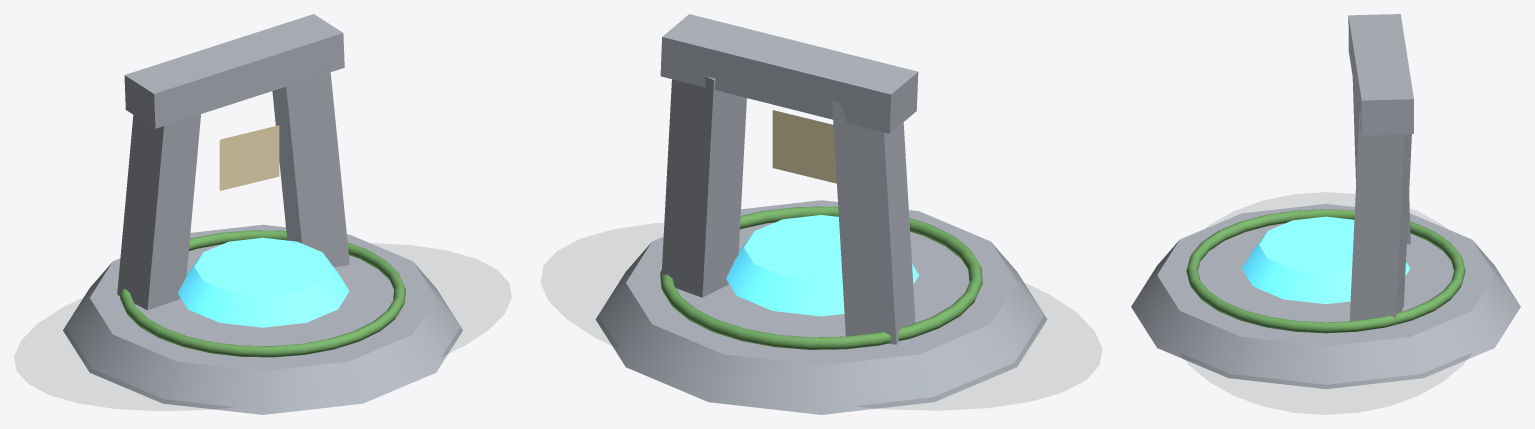
File: neutral_sanctuary.glb
3 renders of one model, left to right at view 1: azimuth 30°, elevation 25°; view 2: azimuth 150°, elevation 25°; view 3: azimuth 270°, elevation 25°, orthographic. The views are drawn at different scales.
Visible parts, largest first — view 1: sanctuary_round_plinth, sanctuary_capstone, sanctuary_back_stone_left, sanctuary_water_bowl, sanctuary_back_stone_right, soft_ground_shadow, sanctuary_moss_patch, sanctuary_prayer_cloth; view 2: sanctuary_round_plinth, sanctuary_capstone, sanctuary_back_stone_right, sanctuary_back_stone_left, soft_ground_shadow, sanctuary_water_bowl, sanctuary_moss_patch, sanctuary_prayer_cloth; view 3: sanctuary_round_plinth, sanctuary_back_stone_right, sanctuary_water_bowl, sanctuary_capstone, sanctuary_moss_patch, soft_ground_shadow, sanctuary_back_stone_left.
Part boxes in pixels (<box>): sanctuary_round_plinth: <box>63,224,462,414</box>; sanctuary_capstone: <box>124,14,344,128</box>; sanctuary_back_stone_left: <box>117,114,200,310</box>; sanctuary_water_bowl: <box>178,237,349,327</box>; sanctuary_back_stone_right: <box>272,59,349,267</box>; soft_ground_shadow: <box>15,243,510,410</box>; sanctuary_moss_patch: <box>120,230,405,357</box>; sanctuary_prayer_cloth: <box>219,125,279,190</box>; sanctuary_round_plinth: <box>595,200,1047,414</box>; sanctuary_capstone: <box>660,14,918,133</box>; sanctuary_back_stone_right: <box>661,76,746,297</box>; sanctuary_back_stone_left: <box>832,101,915,344</box>; soft_ground_shadow: <box>541,223,1101,409</box>; sanctuary_water_bowl: <box>726,215,918,316</box>; sanctuary_moss_patch: <box>660,206,982,349</box>; sanctuary_prayer_cloth: <box>772,110,836,183</box>; sanctuary_round_plinth: <box>1131,204,1520,389</box>; sanctuary_back_stone_right: <box>1349,114,1411,325</box>; sanctuary_water_bowl: <box>1241,216,1410,304</box>; sanctuary_capstone: <box>1348,14,1413,135</box>; sanctuary_moss_patch: <box>1186,209,1465,333</box>; soft_ground_shadow: <box>1182,192,1470,414</box>; sanctuary_back_stone_left: <box>1352,78,1410,244</box>.
Size of the model in its own units: 3.63 by 1.92 by 2.68.
